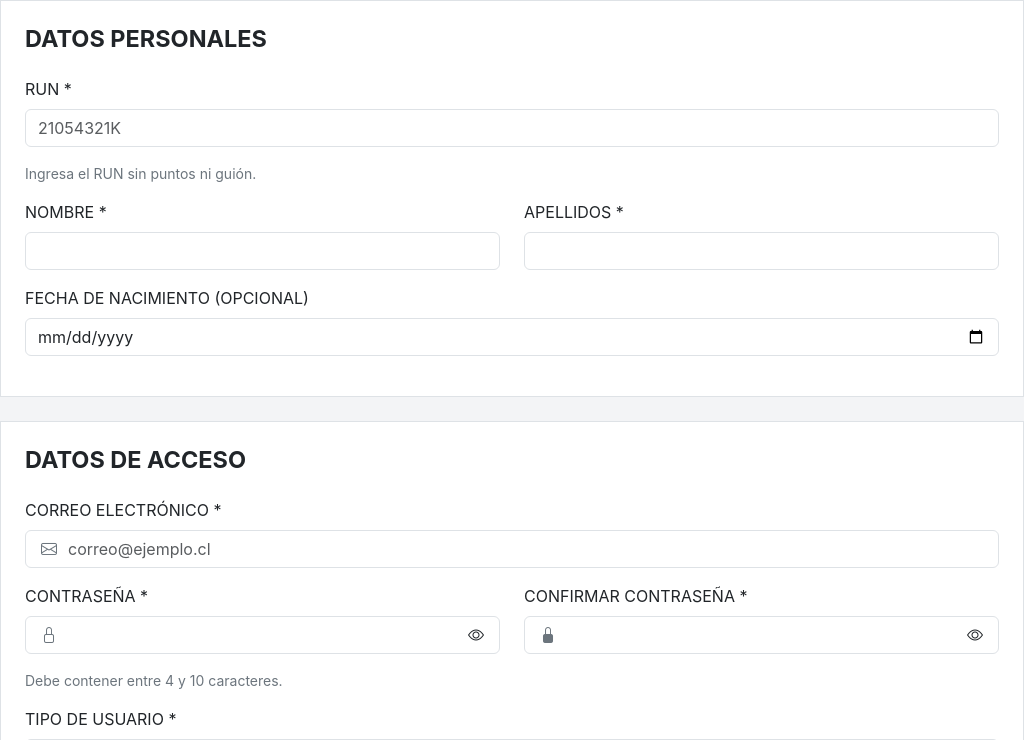
Test case: muestra un error cuando las contraseñas no coinciden
Type "Clave123" into the password field labelled "CONTRASEÑA *" at (262, 635), box left=25, top=616, right=500, bottom=654
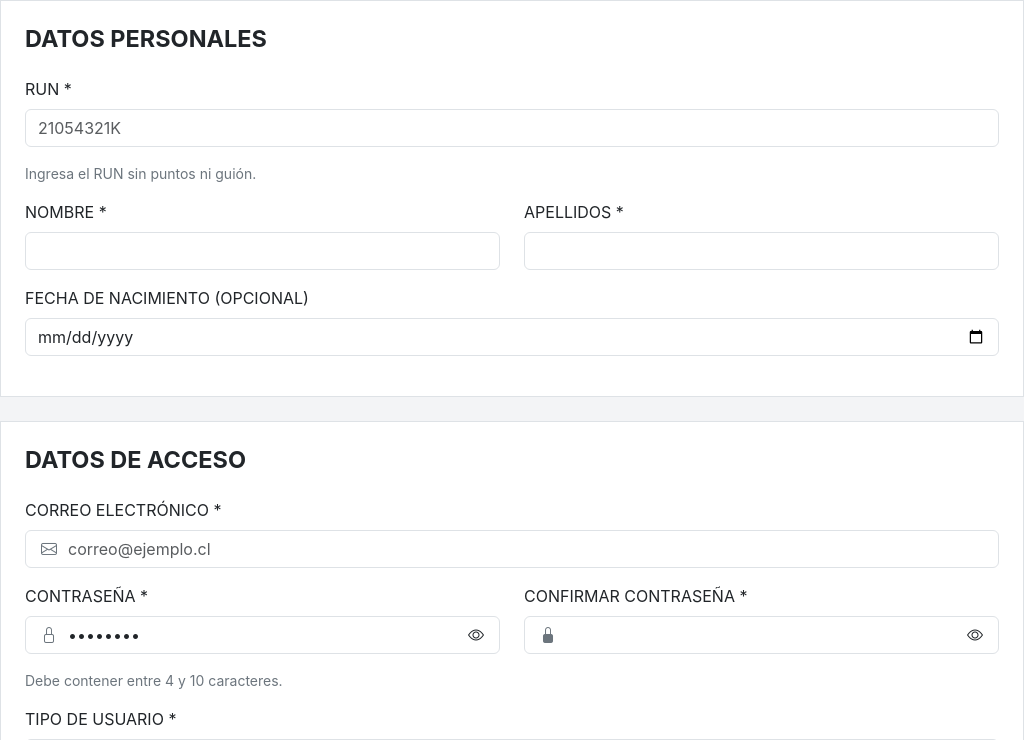
Type "Otra123" into the password field labelled "CONFIRMAR CONTRASEÑA *" at (762, 635), box left=524, top=616, right=999, bottom=654
(page scrolled)
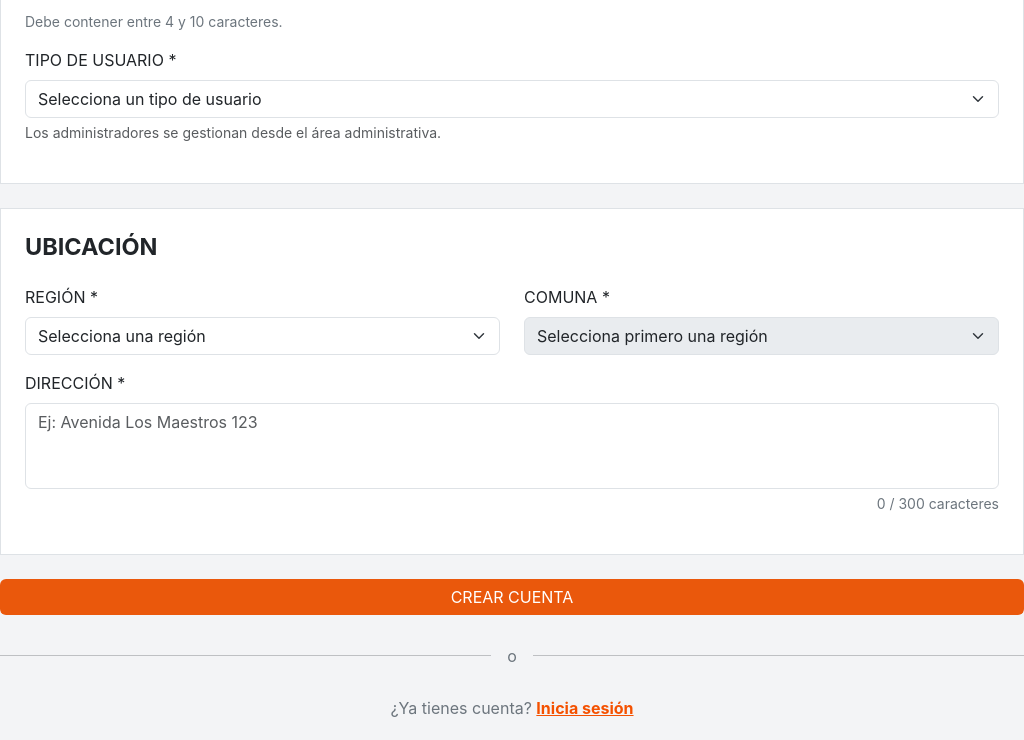
Click the button "CREAR CUENTA" at (512, 598), box left=0, top=580, right=1023, bottom=616
(page scrolled)
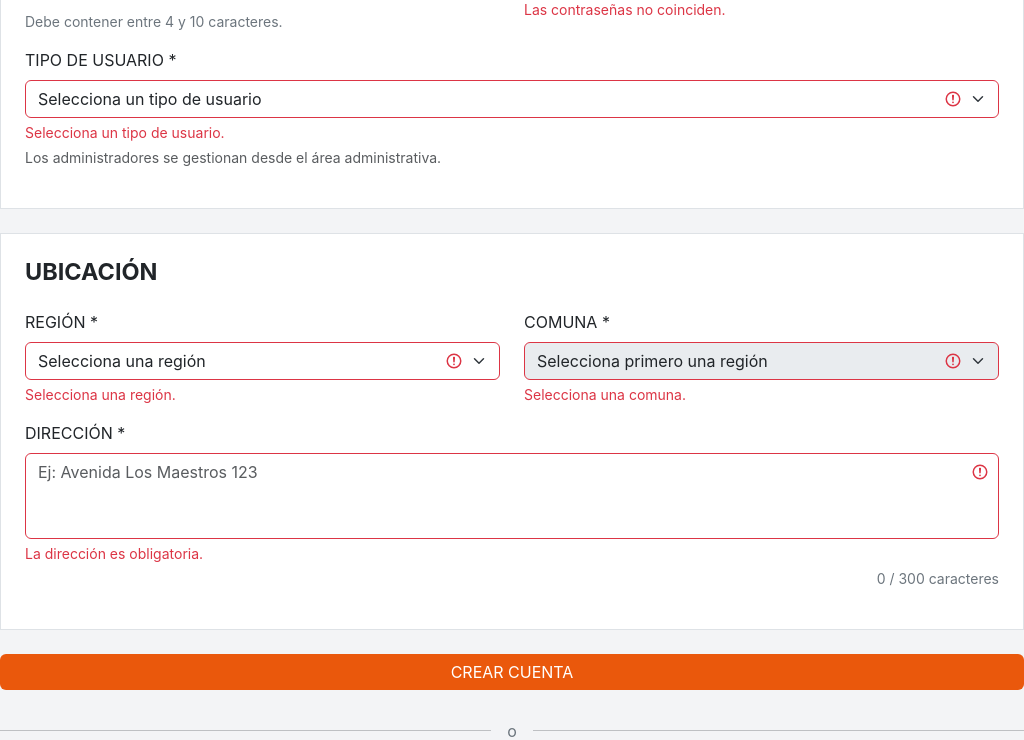
Result: the text "Las contraseñas no coinciden." is shown at left=524, top=1, right=726, bottom=18
